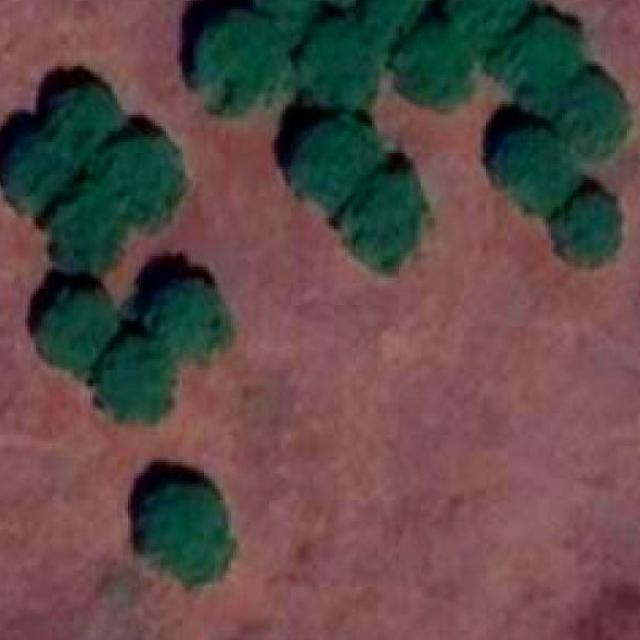Tree: (144, 486, 234, 581), (343, 171, 422, 267), (182, 21, 269, 108), (95, 132, 177, 224), (144, 278, 223, 373), (301, 20, 383, 110), (290, 118, 378, 200), (506, 16, 582, 108), (394, 20, 469, 110), (101, 337, 171, 424), (556, 66, 625, 151), (44, 285, 110, 370), (496, 131, 570, 205), (44, 198, 115, 272), (44, 84, 115, 158), (553, 191, 616, 270), (7, 140, 64, 208), (450, 0, 523, 36), (359, 0, 413, 42), (250, 0, 308, 31)
